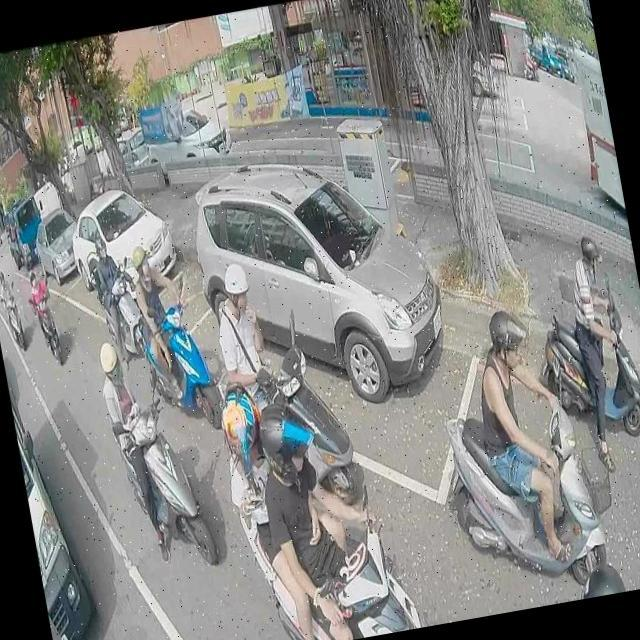person: (255, 390, 405, 640), (219, 376, 360, 640), (461, 294, 591, 576), (556, 223, 640, 466), (96, 327, 180, 568), (200, 260, 282, 420), (128, 231, 200, 403), (83, 232, 135, 366), (24, 264, 62, 359), (576, 546, 624, 598), (0, 266, 25, 341), (522, 46, 536, 75)
